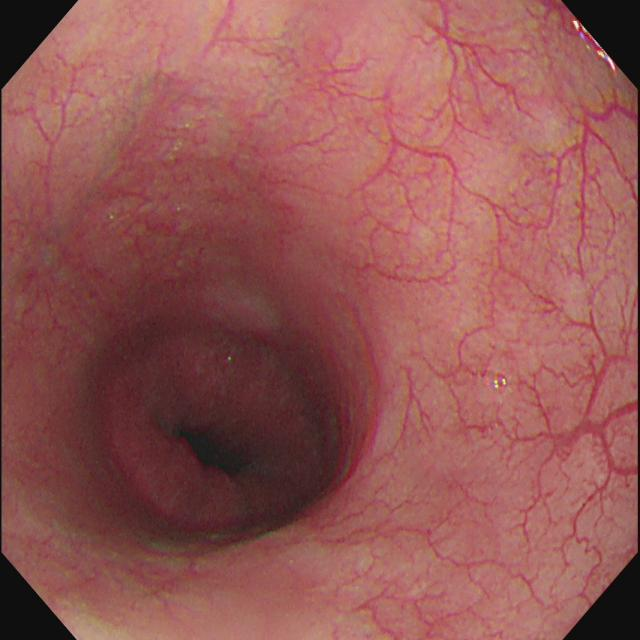I: (95, 313, 348, 549)
T: (487, 371, 517, 397)
U: (571, 18, 619, 75)
